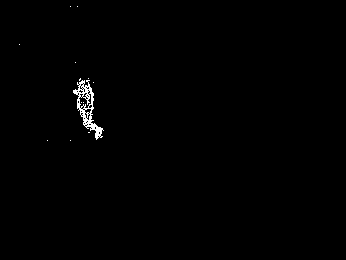person: (71, 76, 104, 141)
